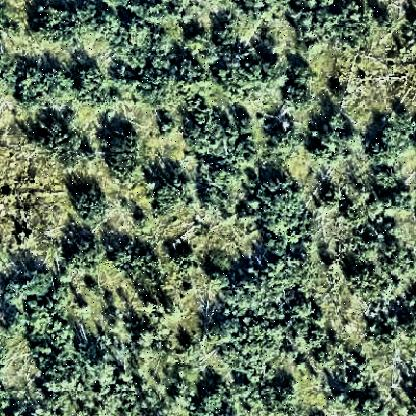tree-top: (250, 178, 329, 244), (42, 338, 124, 393), (229, 259, 305, 311), (287, 6, 381, 48), (15, 61, 77, 115), (108, 16, 176, 64), (180, 102, 238, 155), (40, 6, 112, 46), (112, 244, 176, 286), (219, 49, 271, 99), (127, 61, 180, 110), (200, 162, 248, 216), (346, 257, 396, 306), (38, 122, 89, 170), (312, 109, 358, 161), (76, 60, 120, 114), (277, 58, 323, 107), (102, 131, 144, 179), (68, 185, 115, 227), (249, 315, 291, 360), (258, 365, 300, 407), (374, 116, 416, 158), (61, 235, 105, 275), (152, 174, 194, 214), (186, 33, 228, 71), (171, 48, 210, 88), (205, 313, 245, 351), (267, 122, 307, 156), (350, 224, 389, 256), (120, 1, 183, 20), (383, 241, 416, 277), (25, 267, 57, 302), (378, 303, 414, 333), (25, 304, 53, 342), (270, 374, 303, 406), (196, 387, 231, 416), (47, 318, 78, 350), (170, 242, 199, 276), (368, 199, 399, 230), (210, 20, 240, 50), (297, 325, 329, 353), (368, 168, 401, 194), (6, 278, 30, 311), (293, 297, 321, 325), (2, 308, 30, 336), (392, 186, 416, 214), (132, 325, 157, 351), (316, 345, 338, 370), (234, 379, 259, 401), (133, 211, 153, 235), (331, 385, 351, 405), (158, 117, 176, 135)
